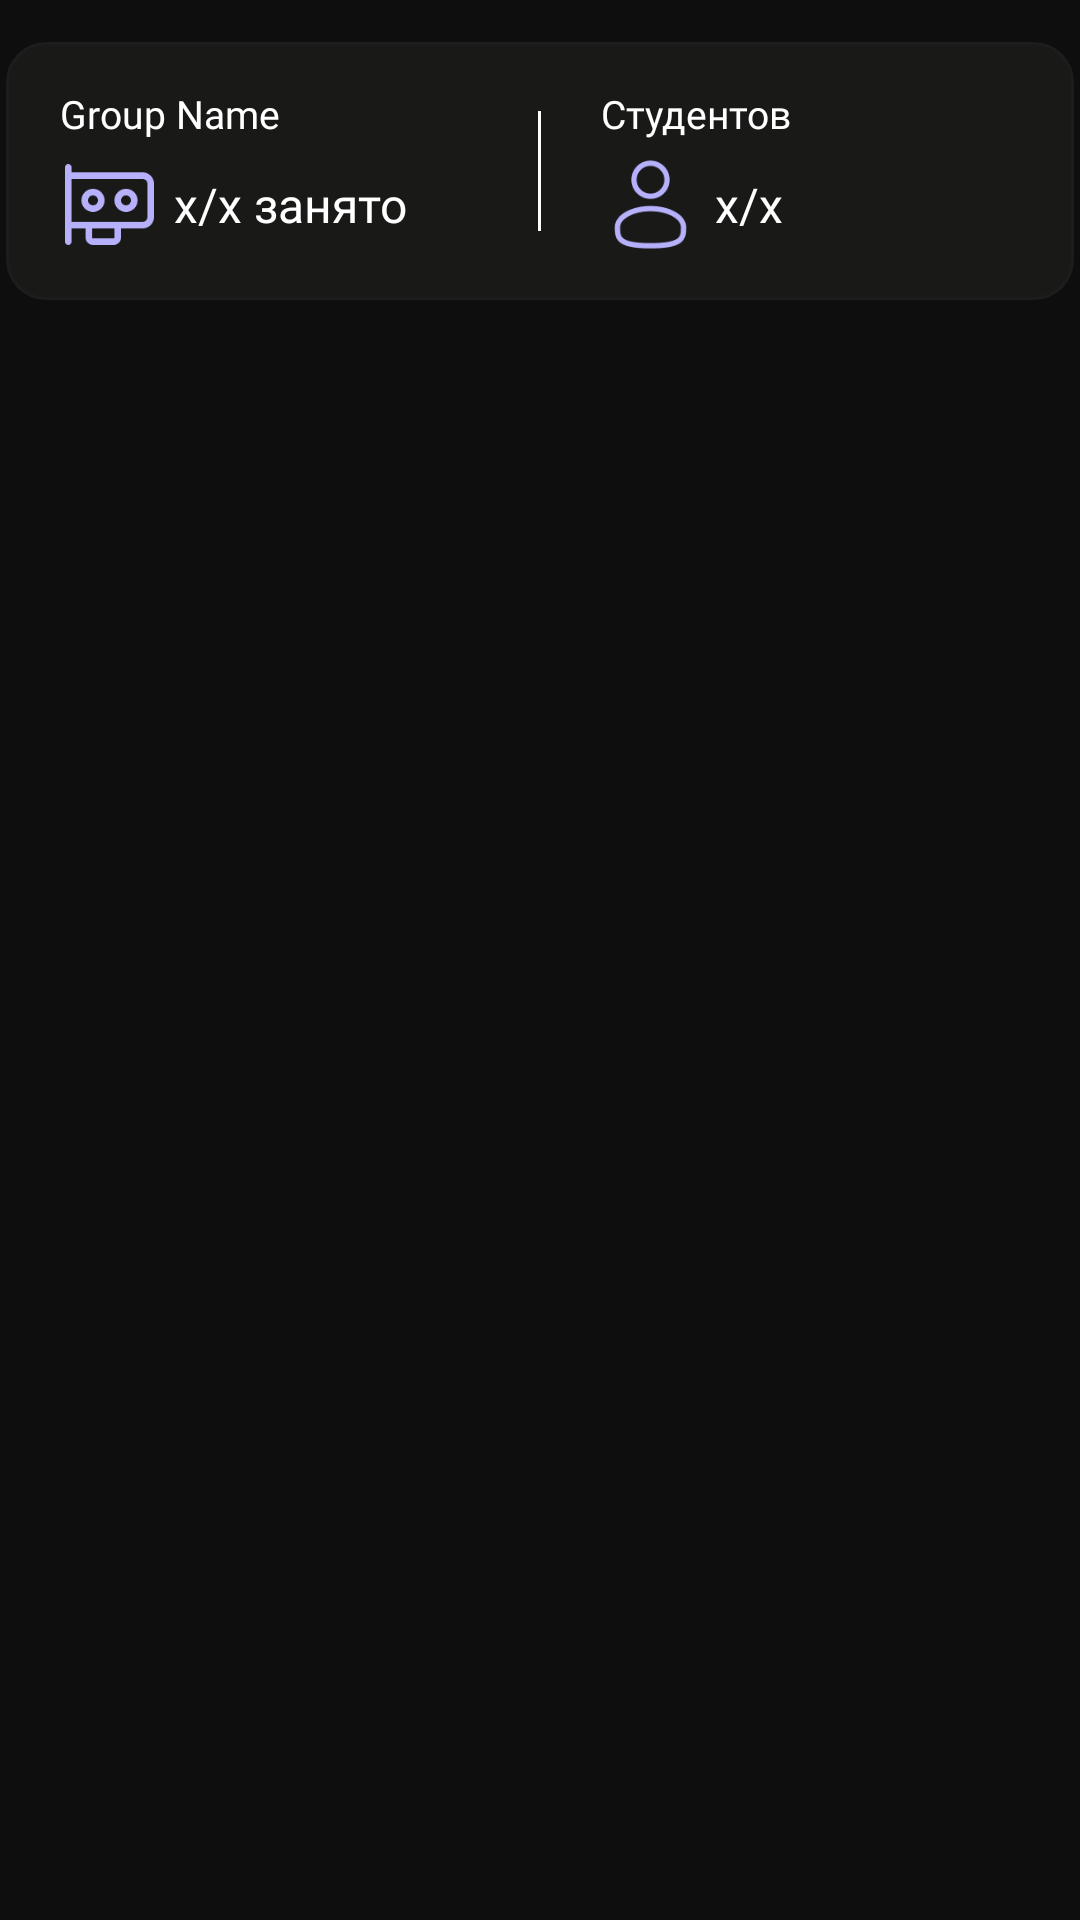

Named icons in this screenshot (1080px x 1920px) and their bounding boxes, (x1, y1, x2, y2):
gpu: (65, 164, 154, 245)
user: (614, 160, 687, 249)
